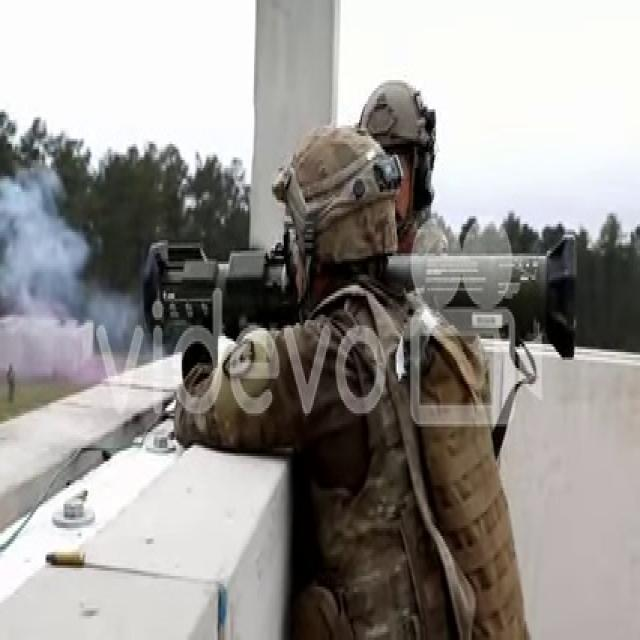bazooka: (141, 223, 583, 363)
